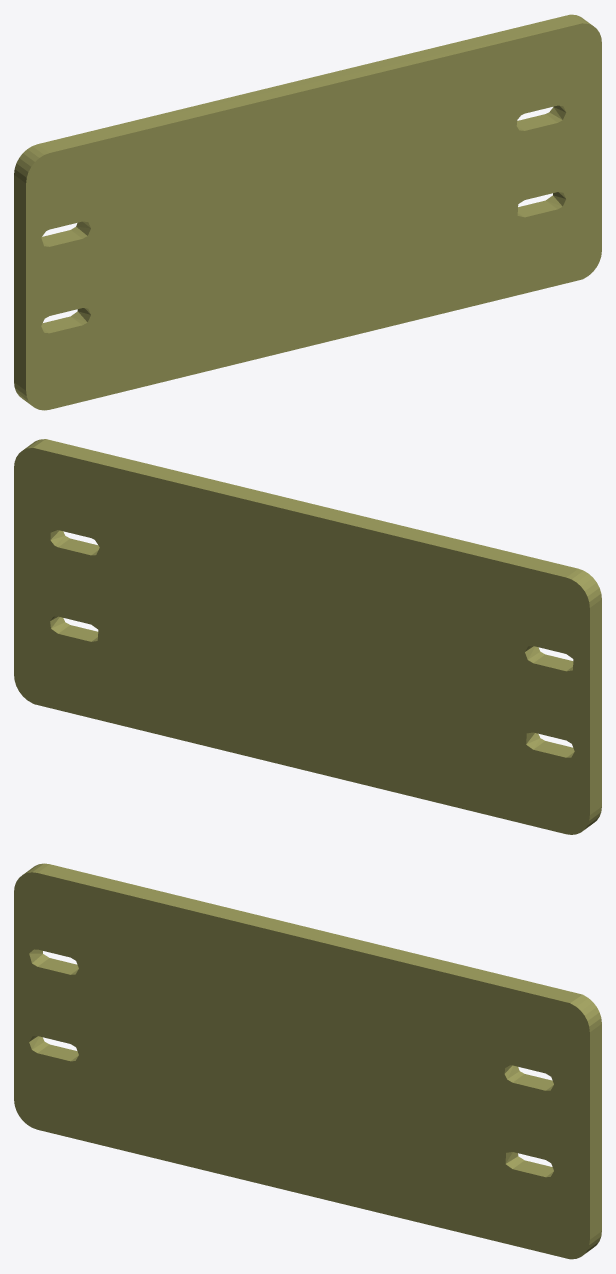
Rendered from OBJ_PCB.obj.
3 renders of one model, top to bottom at view 1: azimuth 30°, elevation 25°; view 2: azimuth 150°, elevation 25°; view 3: azimuth 330°, elevation 25°, orthographic.
Size of the model in its own units: 274 by 117 by 10.
